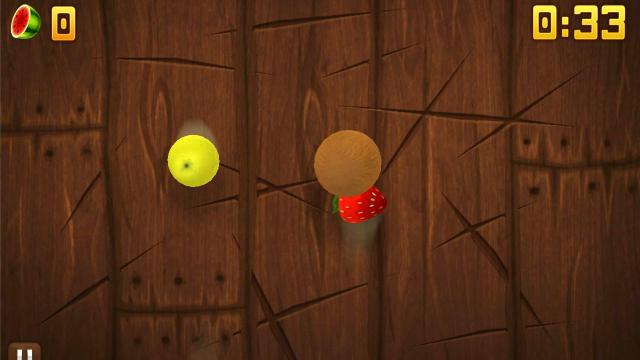fruit: (314, 129, 381, 195), (167, 133, 220, 186), (331, 182, 392, 224)
ignore: (10, 4, 42, 40)
